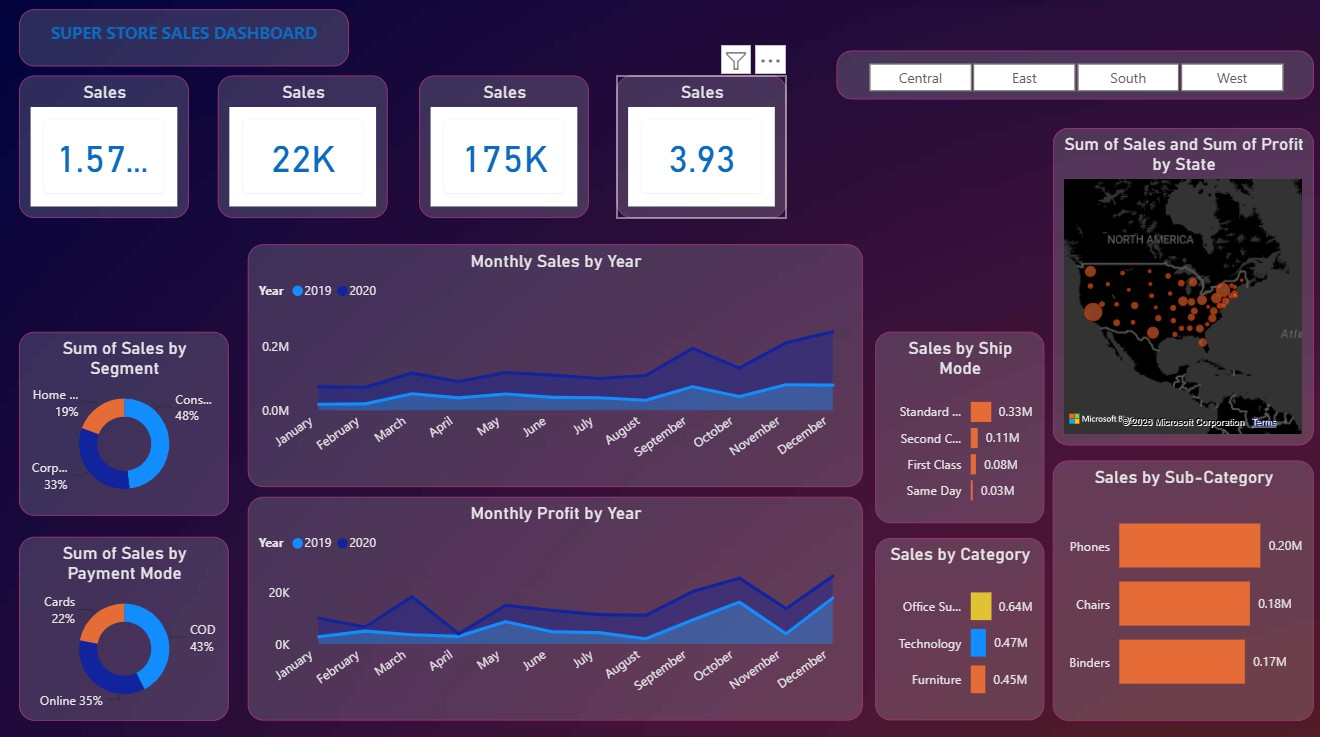

Layout of this report page (visuals, bound fields, positions):
{"tool":"powerbi","page":{"name":"Page 1","canvas":[1280,720],"ordinal":0},"visuals":[{"type":"clusteredBarChart","title":"Sales by Category","fields":{"Category":["SuperStore Sales DataSet.Category"],"Y":["Sum(SuperStore Sales DataSet.Sales)"]},"box":[854.2,521.2,162.9,176.1],"z":0},{"type":"clusteredBarChart","title":"Sales by Sub-Category","fields":{"Category":["SuperStore Sales DataSet.Sub-Category"],"Y":["Sum(SuperStore Sales DataSet.Sales)"]},"box":[1072.5,522.4,162.9,174.9],"z":1000},{"type":"clusteredBarChart","title":"Sales by Ship Mode","fields":{"Category":["SuperStore Sales DataSet.Ship Mode"],"Y":["Sum(SuperStore Sales DataSet.Sales)"]},"box":[853,322.1,162.9,184.6],"z":2000},{"type":"stackedAreaChart","title":"Monthly Sales by Year","fields":{"Y":["Sum(SuperStore Sales DataSet.Sales)"],"Series":["SuperStore Sales DataSet.Order Date.Variation.Date Hierarchy.Year"],"Category":["SuperStore Sales DataSet.Order Date.Variation.Date Hierarchy.Month","SuperStore Sales DataSet.Order Date.Variation.Date Hierarchy.Day"]},"box":[240.1,237.7,593.6,234],"z":3000},{"type":"stackedAreaChart","title":"Monthly Profit by Year","fields":{"Series":["SuperStore Sales DataSet.Order Date.Variation.Date Hierarchy.Year"],"Category":["SuperStore Sales DataSet.Order Date.Variation.Date Hierarchy.Month","SuperStore Sales DataSet.Order Date.Variation.Date Hierarchy.Day"],"Y":["Sum(SuperStore Sales DataSet.Profit)"]},"box":[240.1,481.4,593.6,216],"z":4000},{"type":"map","fields":{"Category":["SuperStore Sales DataSet.State"],"Size":["Sum(SuperStore Sales DataSet.Sales)"]},"box":[1027.9,125.5,252.1,306.4],"z":5000},{"type":"donutChart","fields":{"Category":["SuperStore Sales DataSet.Segment"],"Y":["Sum(SuperStore Sales DataSet.Sales)"]},"box":[19.3,322.1,202.7,177.3],"z":6000},{"type":"donutChart","fields":{"Category":["SuperStore Sales DataSet.Payment Mode"],"Y":["Sum(SuperStore Sales DataSet.Sales)"]},"box":[19.3,520,202.7,177.3],"z":7000},{"type":"slicer","fields":{"Values":["SuperStore Sales DataSet.Region"]},"box":[797.5,50.7,460.9,47.1],"z":8000},{"type":"textbox","box":[19.3,10.9,318.5,55.5],"z":9000},{"type":"cardVisual","title":"Sales","fields":{"Data":["Sum(SuperStore Sales DataSet.Sales)"]},"box":[19.3,74.8,164.1,137.5],"z":10000},{"type":"cardVisual","title":"Sales","fields":{"Data":["Sum(SuperStore Sales DataSet.Quantity)"]},"box":[211.1,74.8,164.1,137.5],"z":11000},{"type":"cardVisual","title":"Sales","fields":{"Data":["Avg(SuperStore Sales DataSet.AvgDelivery)"]},"box":[596,74.8,164.1,137.5],"z":12000},{"type":"cardVisual","title":"Sales","fields":{"Data":["Sum(SuperStore Sales DataSet.Profit)"]},"box":[405.4,74.8,164.1,137.5],"z":13000}]}

Visuals, with their boxes in screenshot pixels (x1, y1, x2, y2), scaled from the page's 1280x720 canvas onto the 1320x737 screenshot:
"Sales by Category" clusteredBarChart: x1=881, y1=534, x2=1049, y2=714
"Sales by Sub-Category" clusteredBarChart: x1=1106, y1=535, x2=1274, y2=714
"Sales by Ship Mode" clusteredBarChart: x1=880, y1=330, x2=1048, y2=519
"Monthly Sales by Year" stackedAreaChart: x1=248, y1=243, x2=860, y2=483
"Monthly Profit by Year" stackedAreaChart: x1=248, y1=493, x2=860, y2=714
map - SuperStore Sales DataSet.State x Sum(SuperStore Sales DataSet.Sales): x1=1060, y1=128, x2=1319, y2=442
donutChart - SuperStore Sales DataSet.Segment x Sum(SuperStore Sales DataSet.Sales): x1=20, y1=330, x2=229, y2=511
donutChart - SuperStore Sales DataSet.Payment Mode x Sum(SuperStore Sales DataSet.Sales): x1=20, y1=532, x2=229, y2=714
slicer - SuperStore Sales DataSet.Region: x1=822, y1=52, x2=1298, y2=100
textbox: x1=20, y1=11, x2=348, y2=68
"Sales" cardVisual: x1=20, y1=77, x2=189, y2=217
"Sales" cardVisual: x1=218, y1=77, x2=387, y2=217
"Sales" cardVisual: x1=615, y1=77, x2=784, y2=217
"Sales" cardVisual: x1=418, y1=77, x2=587, y2=217
